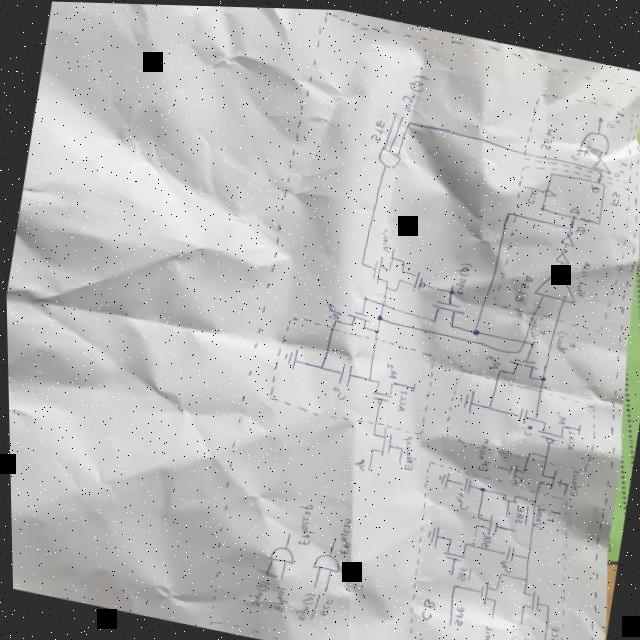capacitor: (334, 358, 354, 385), (512, 402, 528, 420), (459, 473, 472, 491), (501, 541, 514, 557)
crossover: (379, 299, 386, 304), (520, 335, 525, 341)
ground: (453, 382, 475, 412), (277, 343, 299, 370), (421, 520, 441, 546), (432, 466, 449, 488)
junction: (593, 110, 604, 121), (469, 324, 480, 333), (476, 482, 485, 490), (537, 371, 546, 378), (374, 311, 383, 318), (372, 325, 380, 332), (448, 579, 456, 586), (358, 257, 365, 264), (316, 361, 324, 367), (484, 401, 491, 407), (542, 599, 549, 605), (523, 551, 529, 557), (388, 252, 394, 258), (562, 478, 568, 484), (361, 293, 368, 298), (505, 208, 512, 213), (447, 286, 454, 291), (531, 412, 537, 417), (521, 573, 526, 579), (366, 374, 371, 379), (370, 418, 375, 423), (383, 282, 388, 287), (496, 365, 501, 370), (529, 338, 534, 343), (542, 451, 547, 456), (397, 443, 402, 448), (399, 256, 403, 260), (526, 447, 530, 451), (391, 285, 396, 288), (566, 223, 571, 226), (407, 119, 412, 122), (531, 496, 535, 499), (333, 317, 337, 320), (599, 167, 601, 169)
source: (408, 378, 417, 390), (574, 420, 581, 432)
terminal: (330, 534, 337, 539), (502, 509, 507, 515), (521, 180, 527, 185), (517, 616, 522, 621), (446, 568, 451, 573), (559, 487, 564, 492), (491, 459, 496, 464), (448, 280, 453, 285), (321, 585, 326, 590), (391, 244, 396, 249), (487, 612, 492, 616), (276, 575, 281, 579), (285, 529, 289, 534), (582, 149, 586, 153), (511, 526, 516, 529), (517, 478, 521, 481), (396, 459, 400, 462), (400, 112, 403, 116), (393, 109, 397, 112), (311, 583, 315, 586), (262, 572, 266, 575), (447, 620, 450, 623), (365, 466, 369, 468), (538, 639, 544, 640)
text: (398, 67, 431, 112), (290, 498, 320, 545), (288, 586, 321, 623), (528, 497, 561, 529), (569, 253, 594, 294), (395, 429, 419, 469), (243, 574, 270, 607), (333, 513, 354, 554), (451, 257, 473, 294), (511, 268, 534, 301), (550, 324, 577, 352), (523, 310, 549, 339), (474, 433, 492, 469), (603, 102, 627, 128), (268, 583, 289, 612), (537, 121, 557, 148), (415, 593, 435, 619), (472, 619, 496, 640), (377, 225, 395, 251), (565, 464, 581, 493), (368, 115, 386, 140), (450, 487, 470, 508), (321, 299, 343, 318), (452, 559, 471, 580), (315, 593, 332, 616), (511, 500, 528, 523), (480, 350, 502, 367), (612, 154, 629, 175), (393, 385, 407, 410), (502, 628, 530, 640), (329, 381, 347, 399), (494, 554, 513, 571), (561, 425, 575, 448), (381, 358, 398, 376), (550, 406, 567, 423), (567, 141, 584, 158), (606, 185, 622, 203), (524, 183, 539, 201), (476, 528, 491, 546), (450, 602, 463, 622), (544, 620, 557, 640), (349, 453, 366, 468), (518, 420, 533, 433), (572, 220, 587, 231), (589, 178, 601, 190), (506, 473, 519, 483), (568, 201, 581, 211), (557, 288, 568, 296), (541, 283, 550, 290)
transistor: (426, 293, 465, 327), (364, 420, 394, 456), (502, 350, 539, 378), (439, 531, 470, 562), (532, 413, 565, 442), (367, 250, 394, 284), (470, 575, 500, 604), (368, 373, 395, 405), (396, 264, 427, 291), (533, 462, 563, 489), (512, 583, 540, 610), (470, 508, 499, 532), (344, 306, 371, 329), (496, 485, 519, 501), (503, 459, 524, 476)
